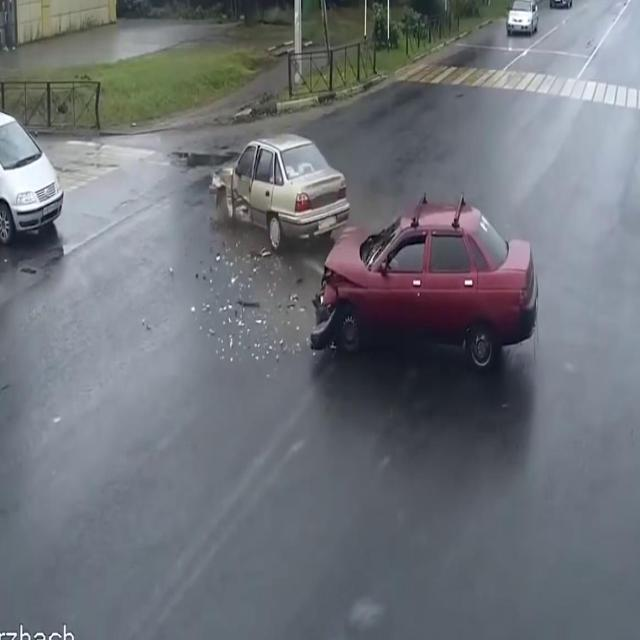accident: (197, 124, 547, 392)
